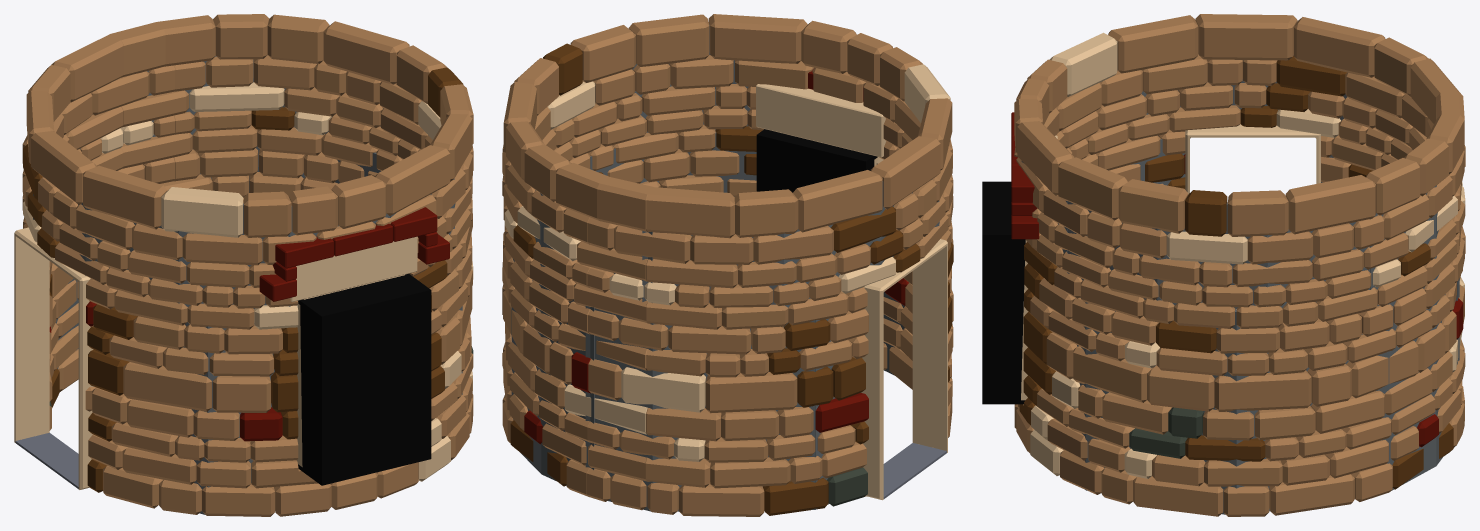
File: mid-section-with-large-slit-and-doorway-rb.glb
3 renders of one model, left to right at view 1: azimuth 30°, elevation 25°; view 2: azimuth 150°, elevation 25°; view 3: azimuth 270°, elevation 25°, orthographic.
Parts seen in each view (by area): view 1: main-wall.057, mid-section-with-large-slit-and-doorway, doorway-frame, plaque-stone, grout-wall.003, doorway-step, plaque-stone.003, plaque-stone.004, plaque-stone.007, plaque-stone.001, large-slit-frame, plaque-stone.005; view 2: main-wall.057, doorway-frame, plaque-stone, grout-wall.003, mid-section-with-large-slit-and-doorway, doorway-step; view 3: main-wall.057, mid-section-with-large-slit-and-doorway, grout-wall.003, doorway-frame, plaque-stone.007, plaque-stone.005.
Part boxes in pixels (bbox=[...]): main-wall.057: bbox=[22, 14, 473, 516]; mid-section-with-large-slit-and-doorway: bbox=[298, 273, 431, 485]; doorway-frame: bbox=[14, 227, 94, 489]; plaque-stone: bbox=[290, 236, 417, 301]; grout-wall.003: bbox=[33, 55, 462, 515]; doorway-step: bbox=[15, 432, 78, 488]; plaque-stone.003: bbox=[275, 237, 333, 268]; plaque-stone.004: bbox=[332, 223, 393, 256]; plaque-stone.007: bbox=[390, 207, 437, 241]; plaque-stone.001: bbox=[259, 274, 296, 301]; large-slit-frame: bbox=[297, 274, 404, 467]; plaque-stone.005: bbox=[417, 234, 449, 264]; main-wall.057: bbox=[502, 14, 953, 516]; doorway-frame: bbox=[861, 239, 947, 500]; plaque-stone: bbox=[756, 84, 886, 157]; grout-wall.003: bbox=[511, 24, 939, 511]; mid-section-with-large-slit-and-doorway: bbox=[756, 129, 877, 192]; doorway-step: bbox=[883, 443, 946, 498]; main-wall.057: bbox=[1014, 14, 1465, 516]; mid-section-with-large-slit-and-doorway: bbox=[982, 181, 1025, 404]; grout-wall.003: bbox=[1021, 55, 1459, 516]; doorway-frame: bbox=[1185, 124, 1320, 194]; plaque-stone.007: bbox=[1011, 165, 1034, 202]; plaque-stone.005: bbox=[1011, 215, 1039, 239].
Bounding box in the file's own units: 2.9 × 2.25 × 3.1.
